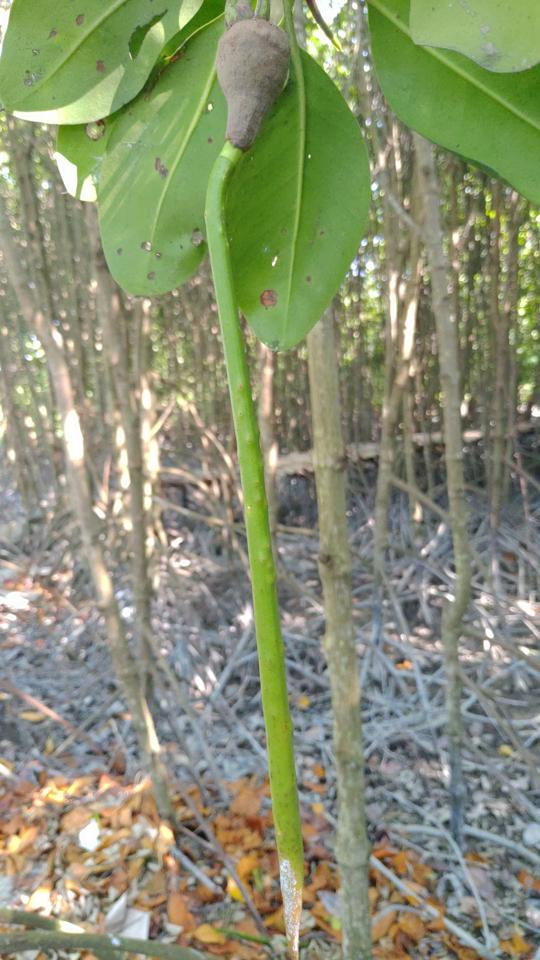setengah matang: (196, 6, 337, 955)
